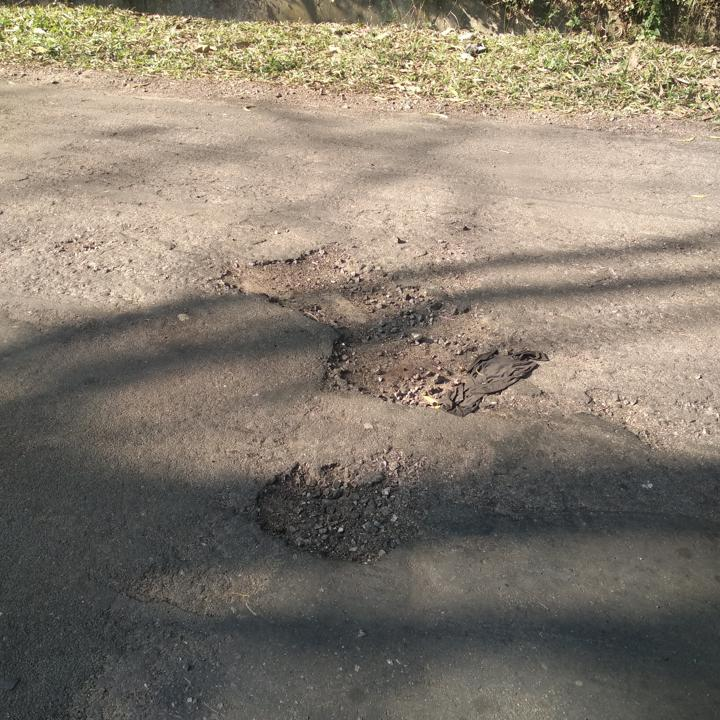pothole: (218, 237, 522, 411), (249, 456, 426, 567)
